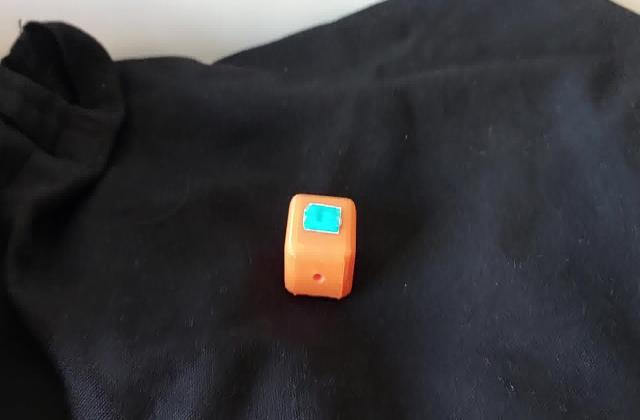blue: (312, 209, 337, 228)
sticker: (280, 188, 362, 306)
